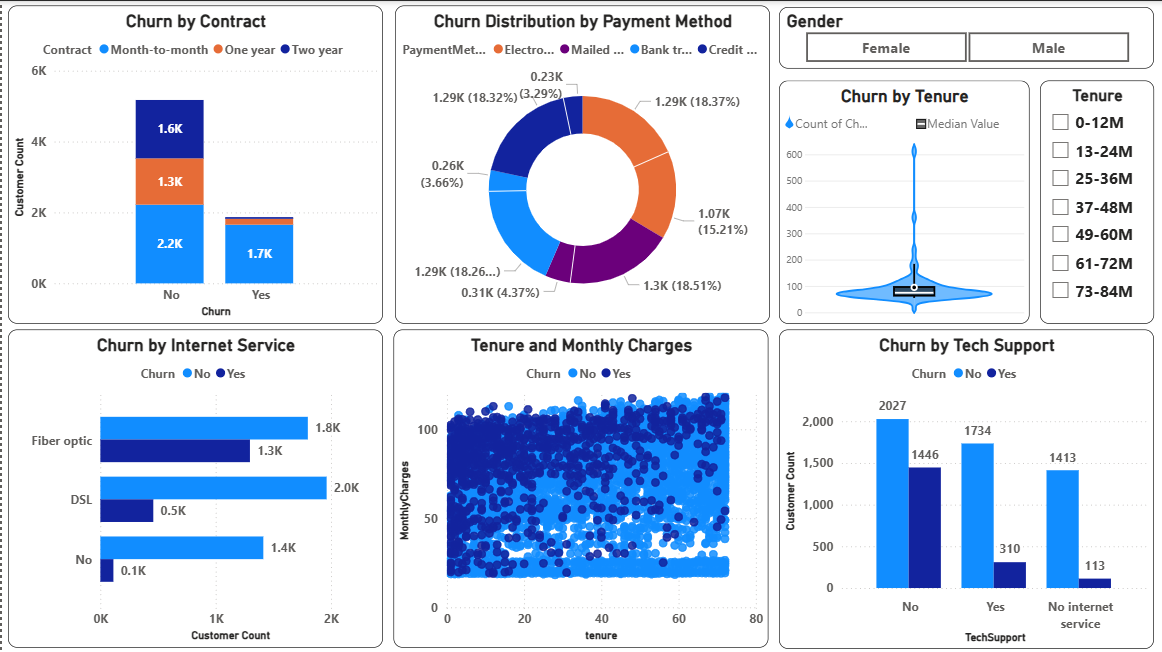

Layout of this report page (visuals, bound fields, positions):
{"tool":"powerbi","page":{"name":"Key Insights & Deep Dive","canvas":[1280,720],"ordinal":2},"visuals":[{"type":"columnChart","title":"Churn by Contract","fields":{"Category":["churn_data.Churn"],"Y":["CountNonNull(churn_data.Contract)"],"Series":["churn_data.Contract"]},"box":[6.6,5,414.1,351.2],"z":0},{"type":"donutChart","title":"Churn Distribution by Payment Method","fields":{"Category":["churn_data.PaymentMethod"],"Series":["churn_data.Churn"],"Y":["CountNonNull(churn_data.PaymentMethod)"]},"box":[434,5,414.1,351.2],"z":1000},{"type":"clusteredBarChart","title":"Churn by Internet Service","fields":{"Series":["churn_data.Churn"],"Y":["CountNonNull(churn_data.InternetService)"],"Category":["churn_data.InternetService"]},"box":[6.6,362.8,414.1,351.2],"z":2000},{"type":"scatterChart","title":"Tenure and Monthly Charges","fields":{"X":["churn_data.tenure"],"Y":["churn_data.MonthlyCharges"],"Series":["churn_data.Churn"]},"box":[432.3,362.8,414.1,351.2],"z":3000},{"type":"clusteredColumnChart","title":"Churn by Tech Support","fields":{"Category":["churn_data.TechSupport"],"Y":["CountNonNull(churn_data.TechSupport)"],"Series":["churn_data.Churn"]},"box":[858.1,362.8,414.1,352.8],"z":4000},{"type":"violinPlot4D46EB9EB3A141D9BA2289793175D971","title":"Churn by Tenure","fields":{"sampling":["churn_data.tenure"],"measure":["CountNonNull(churn_data.Churn)"]},"box":[858.1,87.8,276.6,268.3],"z":5000},{"type":"slicer","title":"Gender","fields":{"Values":["churn_data.gender"]},"box":[858.1,6.6,414.1,67.9],"z":6000},{"type":"slicer","title":"Tenure","fields":{"Values":["churn_data.tenure_bins"]},"box":[1146.3,87.8,125.9,268.3],"z":7000}]}

Visuals, with their boxes in screenshot pixels (x1, y1, x2, y2), scaled from the page's 1280x720 canvas onto the 1162x652 screenshot:
"Churn by Contract" columnChart: 6,5,382,323
"Churn Distribution by Payment Method" donutChart: 394,5,770,323
"Churn by Internet Service" clusteredBarChart: 6,329,382,647
"Tenure and Monthly Charges" scatterChart: 392,329,768,647
"Churn by Tech Support" clusteredColumnChart: 779,329,1155,648
"Churn by Tenure" violinPlot4D46EB9EB3A141D9BA2289793175D971: 779,80,1030,322
"Gender" slicer: 779,6,1155,67
"Tenure" slicer: 1041,80,1155,322
